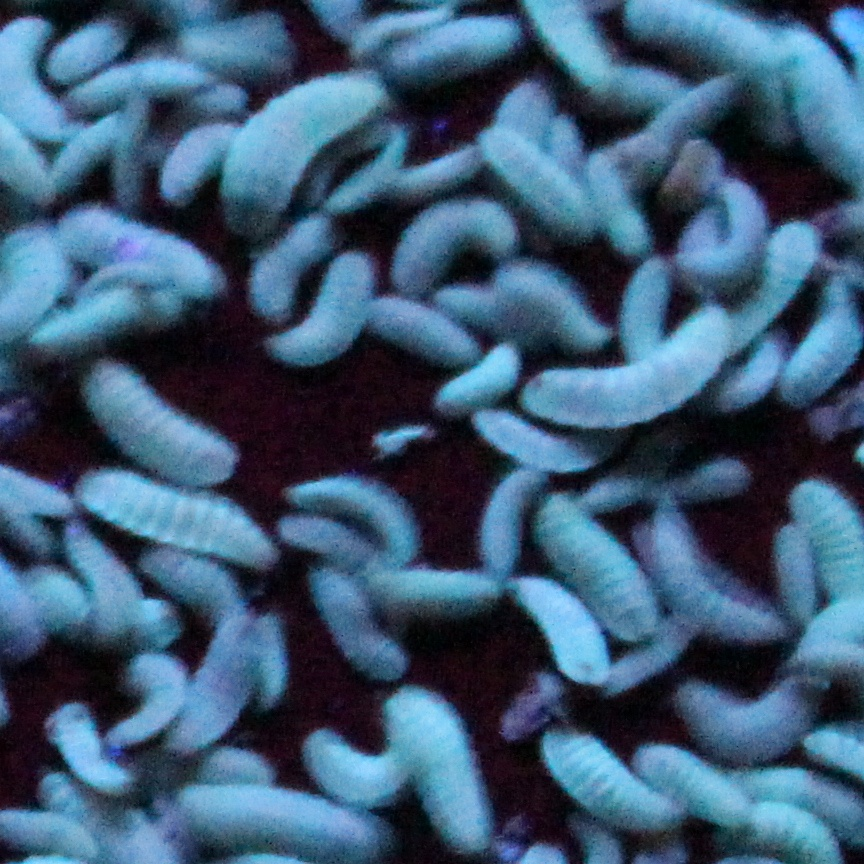larve: (88, 337, 242, 480), (393, 710, 501, 832), (497, 106, 593, 236), (19, 702, 134, 798), (553, 736, 664, 832), (660, 672, 808, 744), (293, 568, 385, 682), (234, 83, 308, 223), (494, 263, 610, 350), (519, 561, 605, 676), (665, 517, 761, 613), (531, 361, 683, 419), (468, 417, 630, 469), (393, 203, 488, 290), (648, 1, 768, 68), (301, 718, 389, 806), (789, 278, 852, 400), (89, 528, 148, 656), (68, 202, 189, 262), (318, 249, 382, 360), (816, 454, 864, 595), (74, 490, 262, 526), (289, 470, 429, 517), (395, 557, 483, 626), (670, 753, 746, 828), (395, 27, 511, 75), (170, 111, 226, 207), (525, 497, 610, 559), (243, 237, 306, 318), (43, 10, 118, 74), (26, 563, 84, 644), (681, 228, 755, 289), (389, 323, 489, 368), (281, 517, 375, 562), (764, 521, 808, 617), (482, 471, 522, 573), (324, 153, 383, 220), (56, 296, 146, 336), (60, 119, 109, 192), (624, 267, 662, 357), (260, 606, 292, 710), (680, 459, 759, 499), (668, 147, 710, 221), (154, 557, 242, 592), (431, 374, 514, 411), (600, 169, 633, 261), (744, 332, 785, 404), (1, 50, 37, 120), (394, 158, 478, 188)
